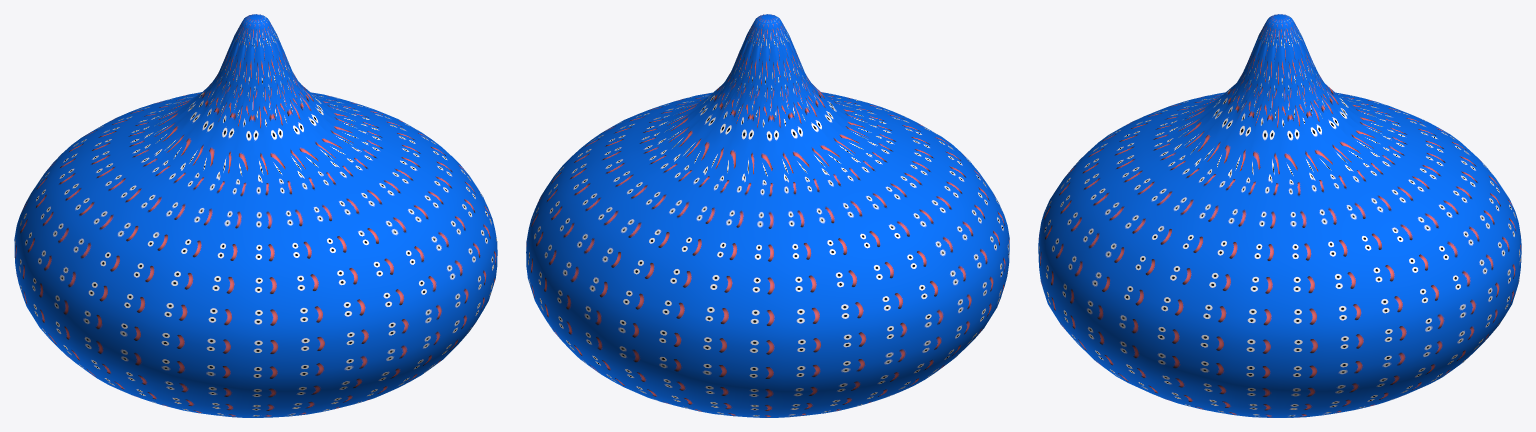
The model's file is SlimeNoUV.fbx.
The picture shows the model from 3 angles, left to right: view 1: azimuth 30°, elevation 25°; view 2: azimuth 150°, elevation 25°; view 3: azimuth 270°, elevation 25°; orthographic projection.
Visible parts, largest first — view 1: Sphere; view 2: Sphere; view 3: Sphere.
Boxes of the visible parts, bbox=[...] form: Sphere: bbox=[14, 14, 497, 417]; Sphere: bbox=[526, 14, 1009, 417]; Sphere: bbox=[1038, 14, 1521, 417].
Bounding box in the file's own units: 186 × 186 × 152.
